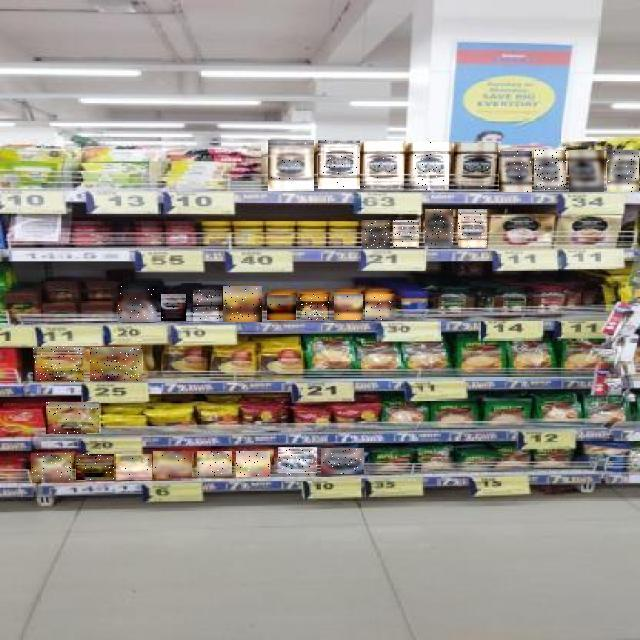Coffee: (269, 140, 315, 191), (454, 142, 498, 190), (318, 140, 360, 189), (365, 141, 405, 190), (33, 347, 84, 382), (90, 347, 142, 381), (413, 142, 449, 190), (46, 403, 99, 435), (570, 150, 606, 192), (223, 286, 262, 322), (118, 287, 157, 323), (499, 151, 532, 192), (607, 150, 639, 192), (534, 150, 566, 190), (458, 209, 487, 248), (31, 454, 71, 482), (321, 448, 364, 474), (278, 448, 317, 476), (425, 210, 453, 248), (153, 452, 192, 478), (77, 454, 115, 480), (116, 454, 152, 480), (197, 452, 232, 478), (236, 451, 270, 477), (366, 295, 398, 321), (362, 220, 390, 248), (162, 294, 190, 321), (334, 295, 363, 321), (300, 295, 329, 321), (393, 221, 419, 249), (267, 295, 296, 320), (193, 290, 222, 305), (194, 307, 222, 322)
